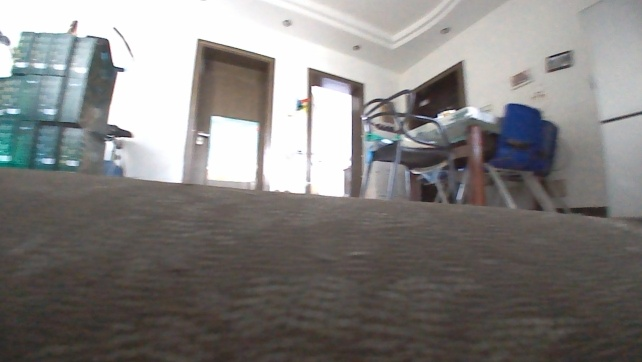blanket: (0, 165, 641, 361)
dining_table: (352, 85, 571, 215)
refrigerator1: (575, 0, 641, 222)
sofa1: (181, 36, 276, 193)
